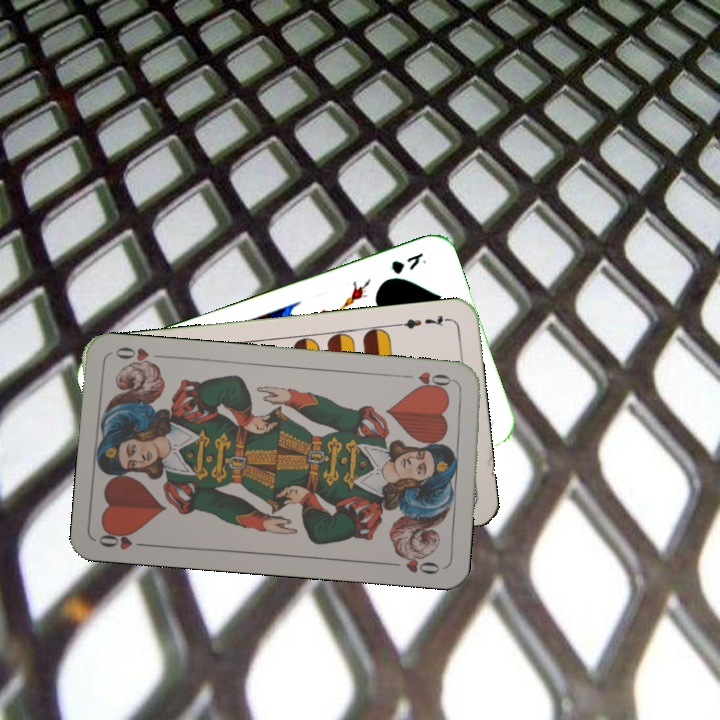E7: (393, 311, 452, 332)
GK: (387, 248, 429, 277)
HO: (399, 367, 458, 394), (95, 526, 154, 553)
